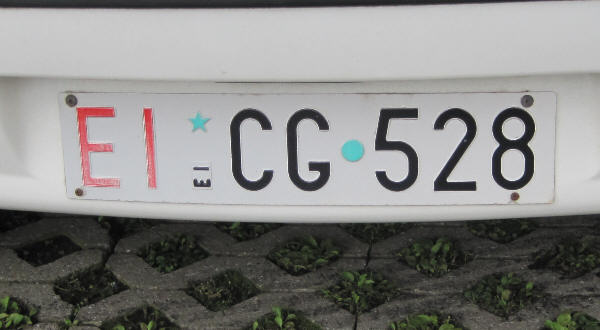license_plate: (58, 89, 558, 205)
